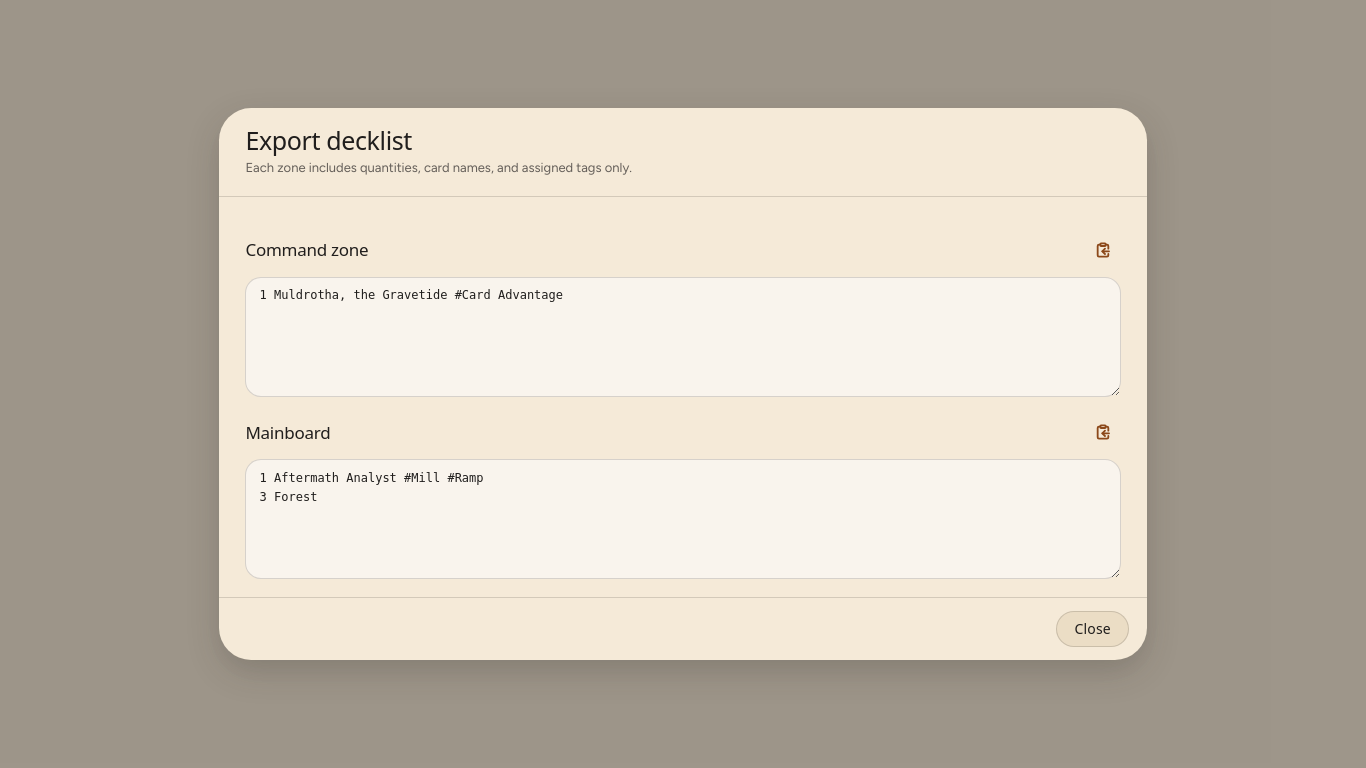
Test: ExportDeckDialog › copies an individual zone decklist
The width and height of the screenshot is (1366, 768).
Step 1. Click the button named "Copy Mainboard decklist" → x=1103, y=432, box [1085,414,1121,450]
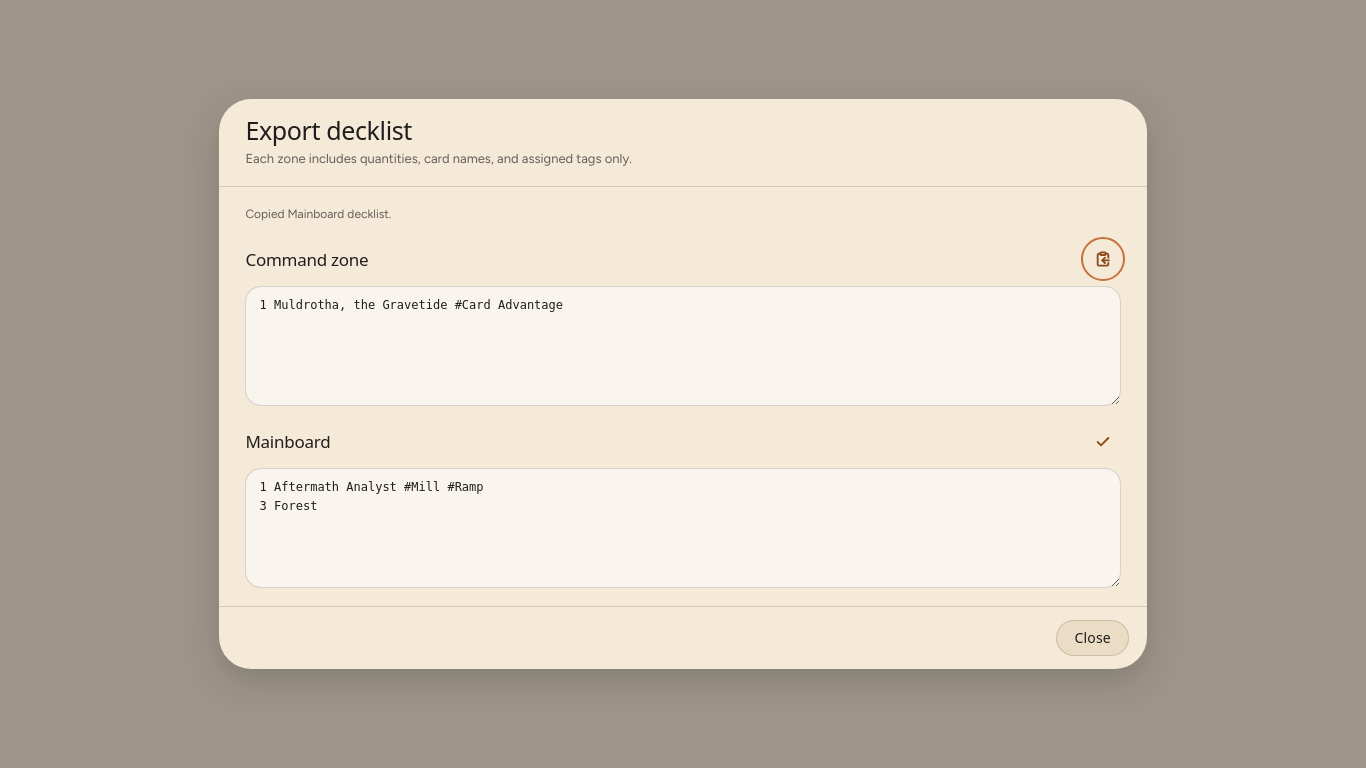
Now the text "Copied Mainboard decklist." is shown, box [245,207,391,221]
